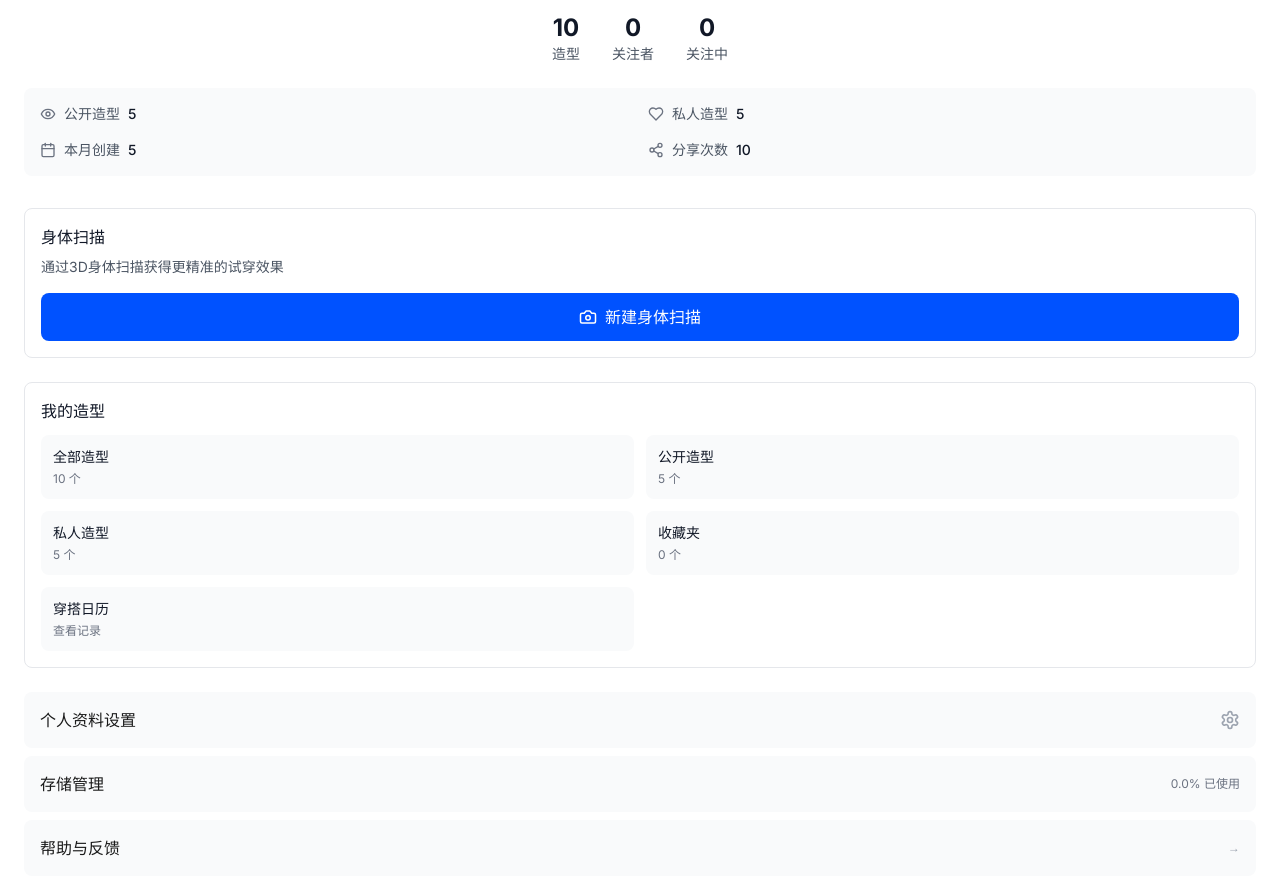
Scenario: 用户管理属性测试 › 用户界面交互 › 应该正确处理快速点击
(page scrolled)
Click the button "个人资料设置" at (88, 720), box left=24, top=692, right=1256, bottom=748
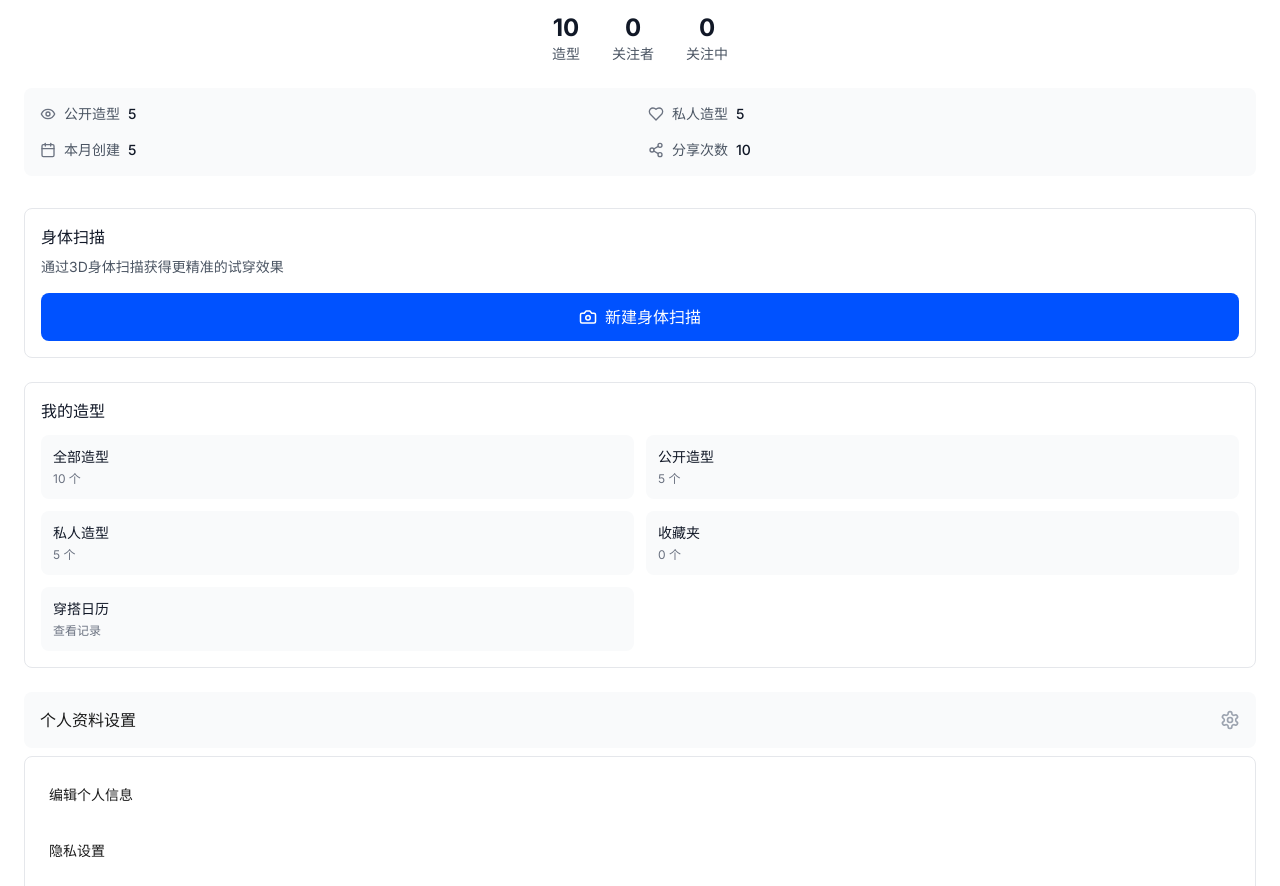
Click the button "个人资料设置" at (88, 720), box left=24, top=692, right=1256, bottom=748
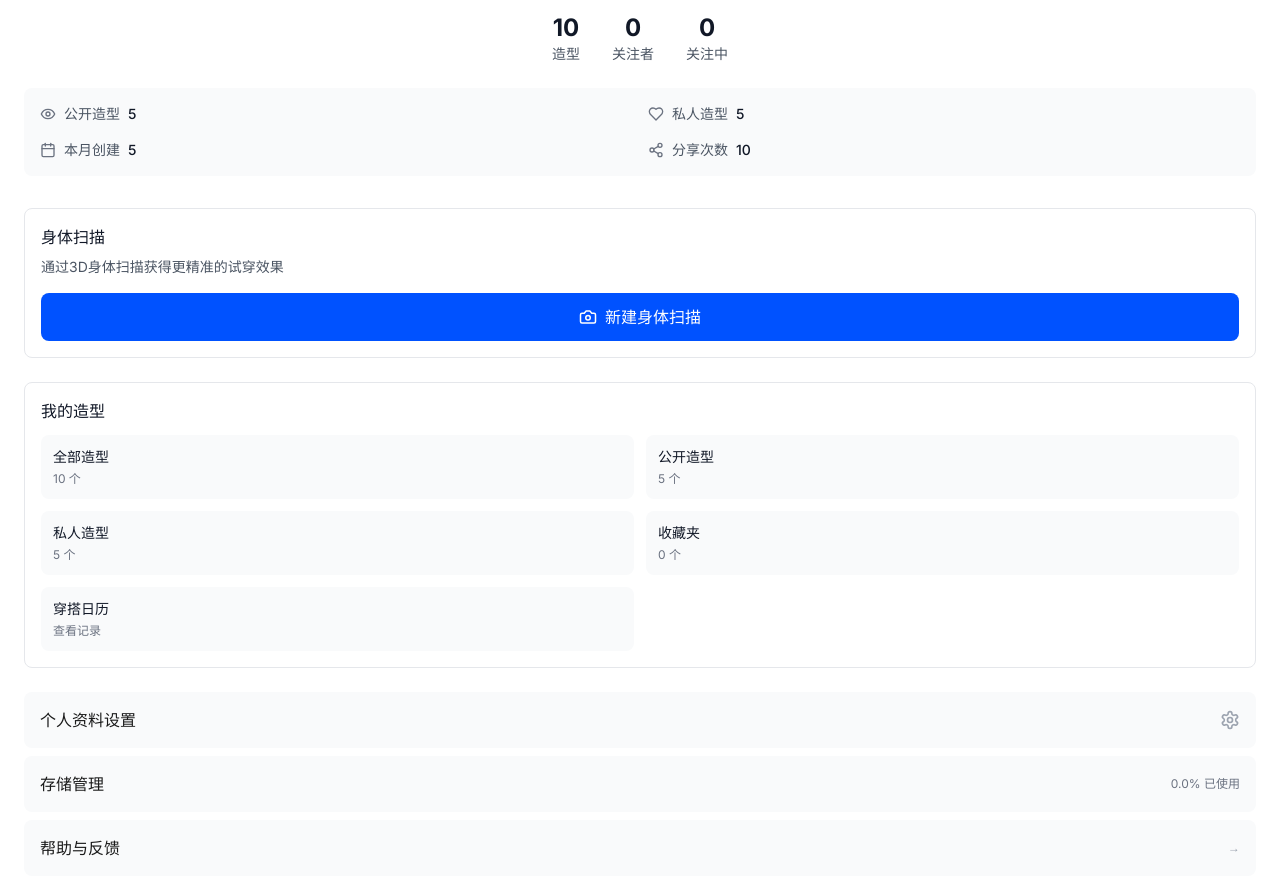
Click the button "个人资料设置" at (88, 720), box left=24, top=692, right=1256, bottom=748
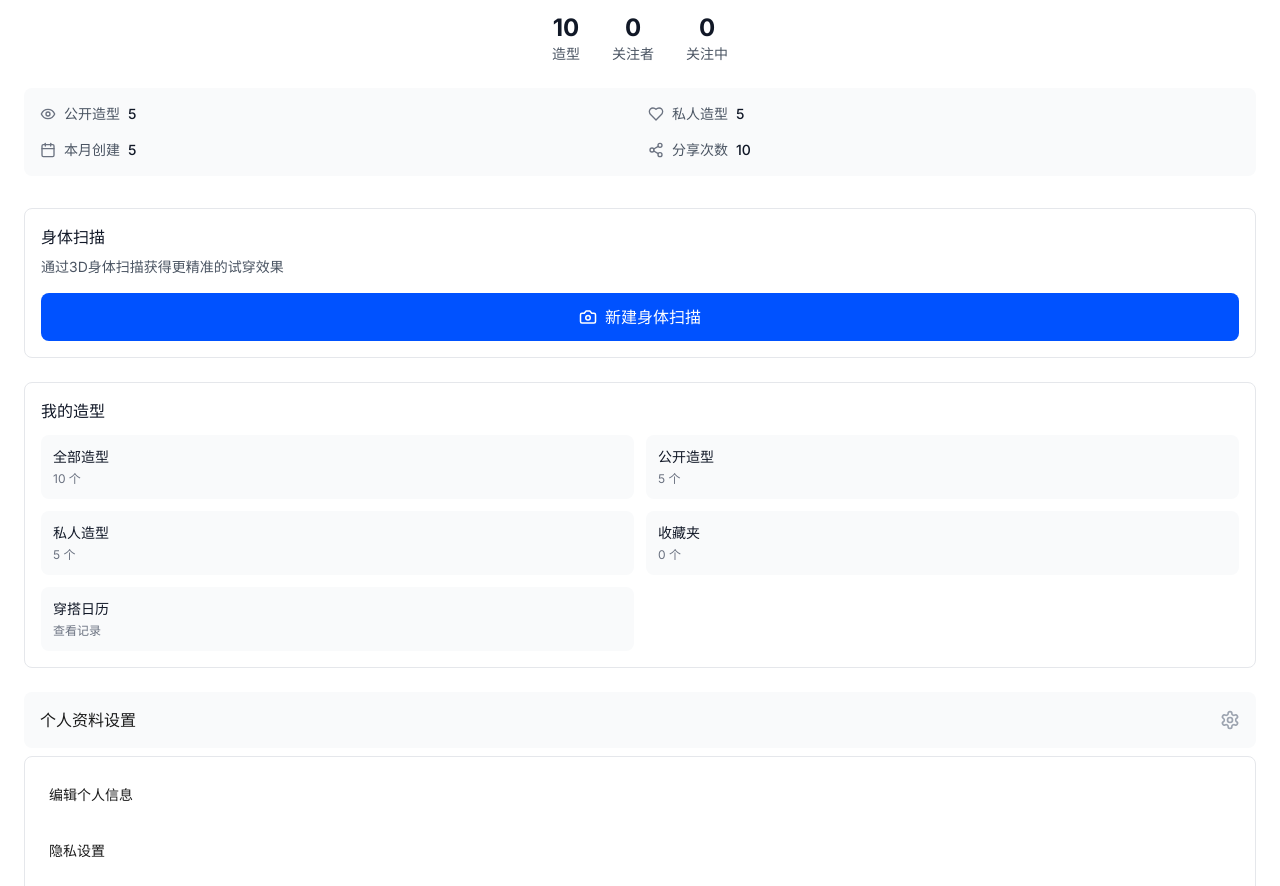
Click the button "个人资料设置" at (88, 720), box left=24, top=692, right=1256, bottom=748
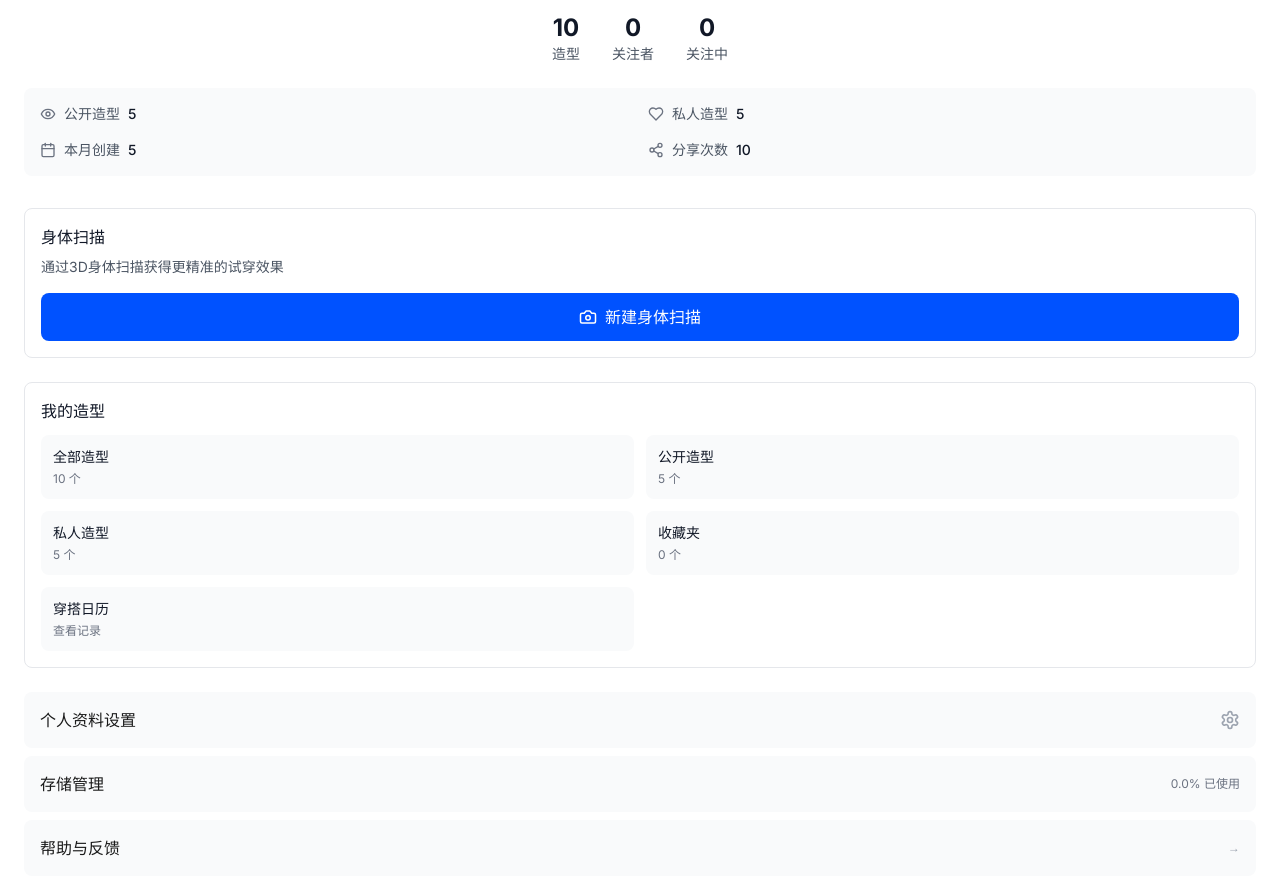
Click the button "个人资料设置" at (88, 720), box left=24, top=692, right=1256, bottom=748
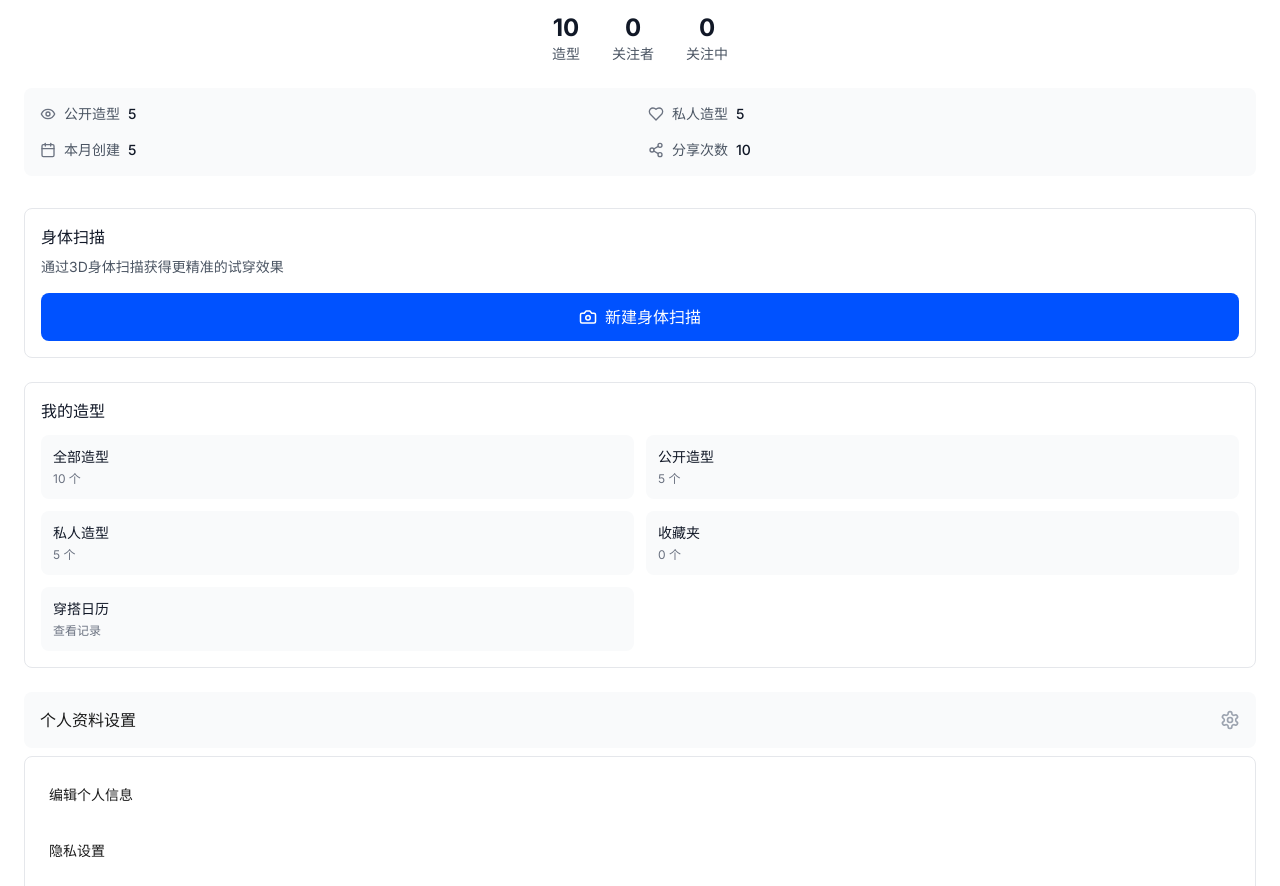
Result: the button "编辑个人信息" is shown at left=41, top=773, right=1239, bottom=817
